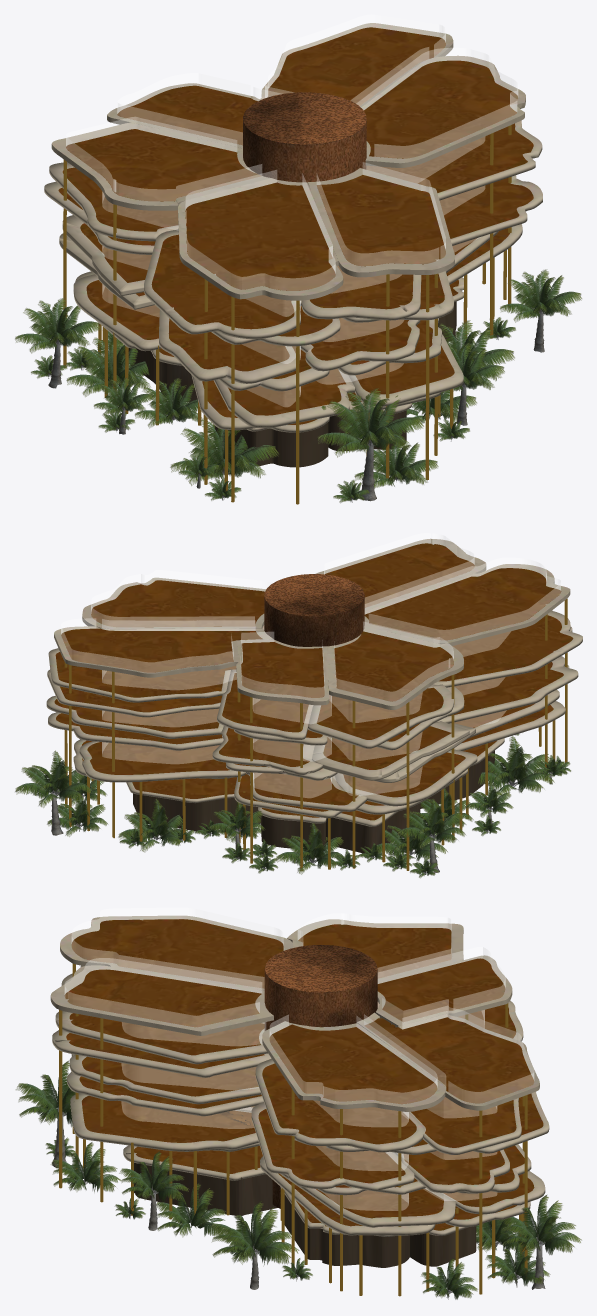
The picture shows the model from 3 angles, top to bottom: view 1: azimuth 30°, elevation 25°; view 2: azimuth 150°, elevation 25°; view 3: azimuth 270°, elevation 25°; orthographic projection. The views are drawn at different scales.
Visible parts, largest first — view 1: Curve_1, Curve_2, Curve001, Object_0041_1, Cylinder, Cylinder035, Curve004, Object_0041; view 2: Curve_1, Curve_2, Curve001, Object_0041_1, Cylinder, Cylinder035, Curve004, Object_0041; view 3: Curve_1, Curve_2, Curve001, Object_0041_1, Curve004, Cylinder, Cylinder035, Object_0041.
Part boxes in pixels (left/top/right/bottom): Curve_1: left=58, top=27, right=533, bottom=424; Curve_2: left=44, top=23, right=542, bottom=432; Curve001: left=66, top=14, right=518, bottom=406; Object_0041_1: left=15, top=269, right=581, bottom=502; Cylinder: left=243, top=92, right=366, bottom=185; Cylinder035: left=63, top=125, right=511, bottom=504; Curve004: left=124, top=301, right=456, bottom=467; Object_0041: left=48, top=312, right=544, bottom=502; Curve_1: left=54, top=543, right=573, bottom=820; Curve_2: left=46, top=538, right=582, bottom=826; Curve001: left=61, top=533, right=560, bottom=797; Object_0041_1: left=15, top=734, right=570, bottom=878; Cylinder: left=264, top=574, right=364, bottom=646; Cylinder035: left=64, top=598, right=567, bottom=870; Curve004: left=133, top=750, right=494, bottom=853; Object_0041: left=51, top=773, right=552, bottom=875; Curve_1: left=64, top=919, right=543, bottom=1230; Curve_2: left=50, top=915, right=549, bottom=1236; Curve001: left=64, top=908, right=534, bottom=1210; Object_0041_1: left=15, top=1060, right=581, bottom=1299; Curve004: left=134, top=1163, right=476, bottom=1267; Cylinder: left=264, top=944, right=377, bottom=1208; Cylinder035: left=59, top=963, right=527, bottom=1296; Object_0041: left=52, top=1115, right=545, bottom=1299.
Size of the model in its own units: 13.73 by 7.06 by 15.26.
Materials: 8 (6 with a texture image).
